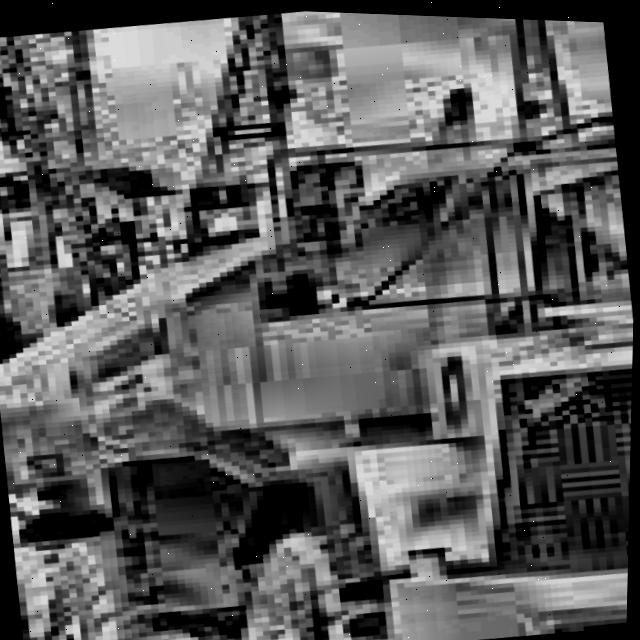dump_truck: (52, 73, 639, 640)
